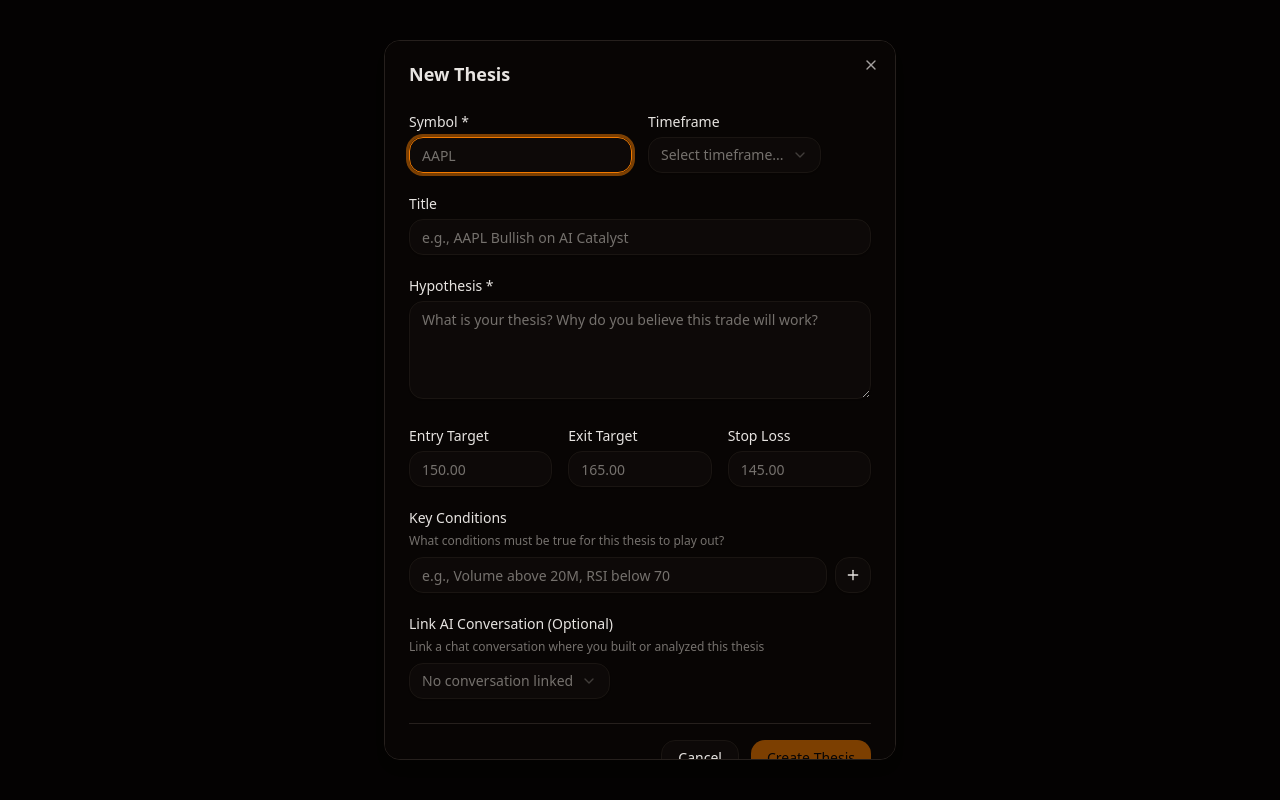
Test case: ThesisDialog › key conditions › allows adding condition by pressing Enter
The image size is (1280, 800).
Type "Price above SMA" into the field with placeholder "e.g., Volume above 20M, RSI below 70" at coordinates (618, 575), box [409, 557, 827, 593]
Then press Enter
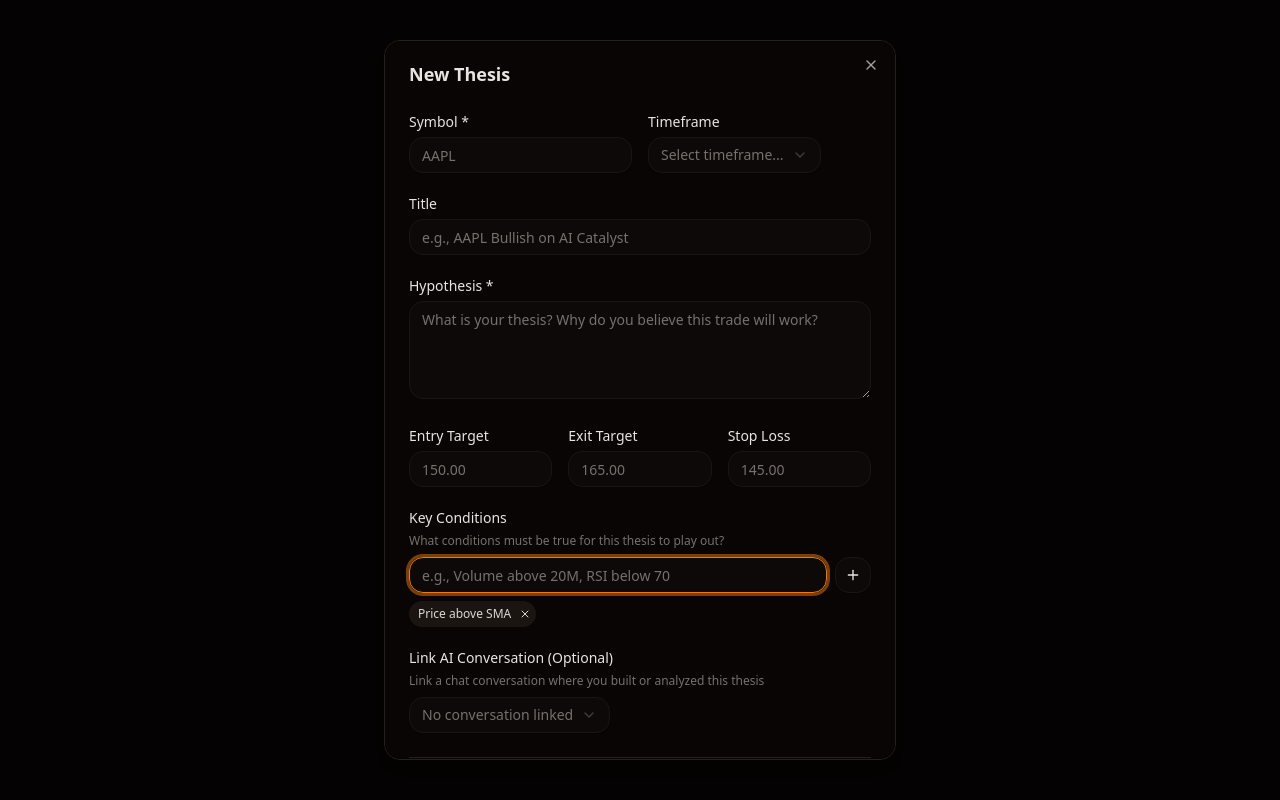
Now the text "Price above SMA" is shown, box [409, 601, 536, 627]
